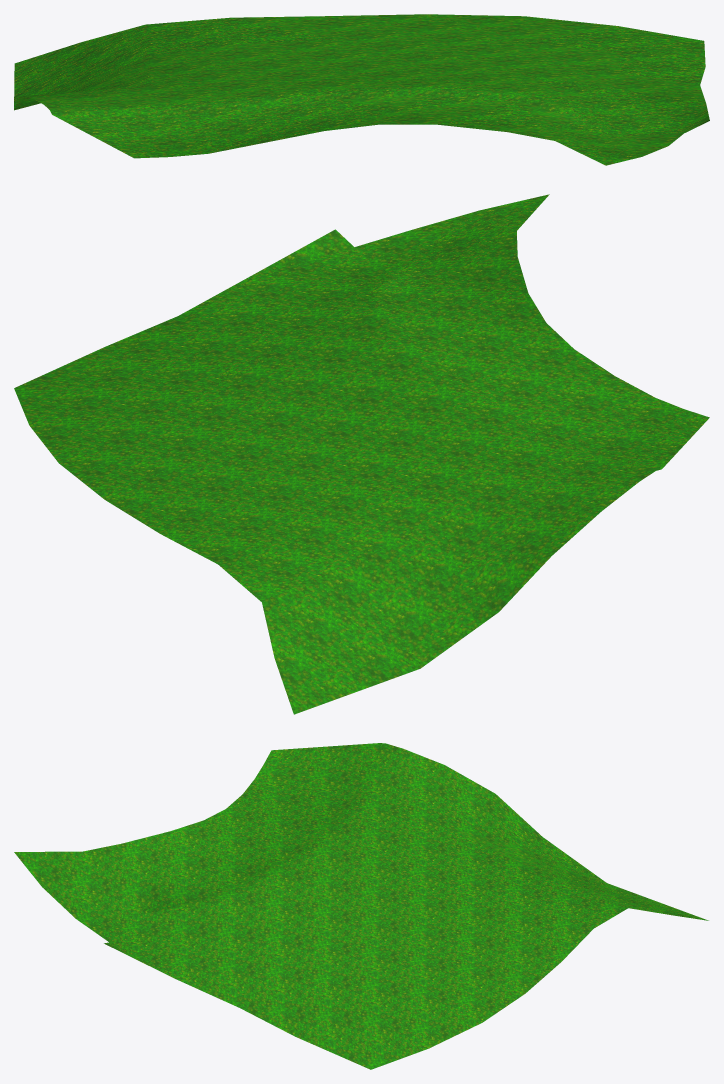
The model's file is HTOWN01_PS28.fbx.
3 renders of one model, top to bottom at view 1: azimuth 30°, elevation 25°; view 2: azimuth 150°, elevation 25°; view 3: azimuth 270°, elevation 25°, orthographic. The views are drawn at different scales.
Visible parts, largest first — view 1: HTOWN01_PS28; view 2: HTOWN01_PS28; view 3: HTOWN01_PS28.
Part boxes in pixels (box(x1,y1,x2,y2)): HTOWN01_PS28: box(14, 14, 709, 165); HTOWN01_PS28: box(14, 194, 709, 714); HTOWN01_PS28: box(14, 743, 708, 1069).
Bounding box in the file's own units: 267110 × 65446 × 301937.
1 material, 1 textured.
